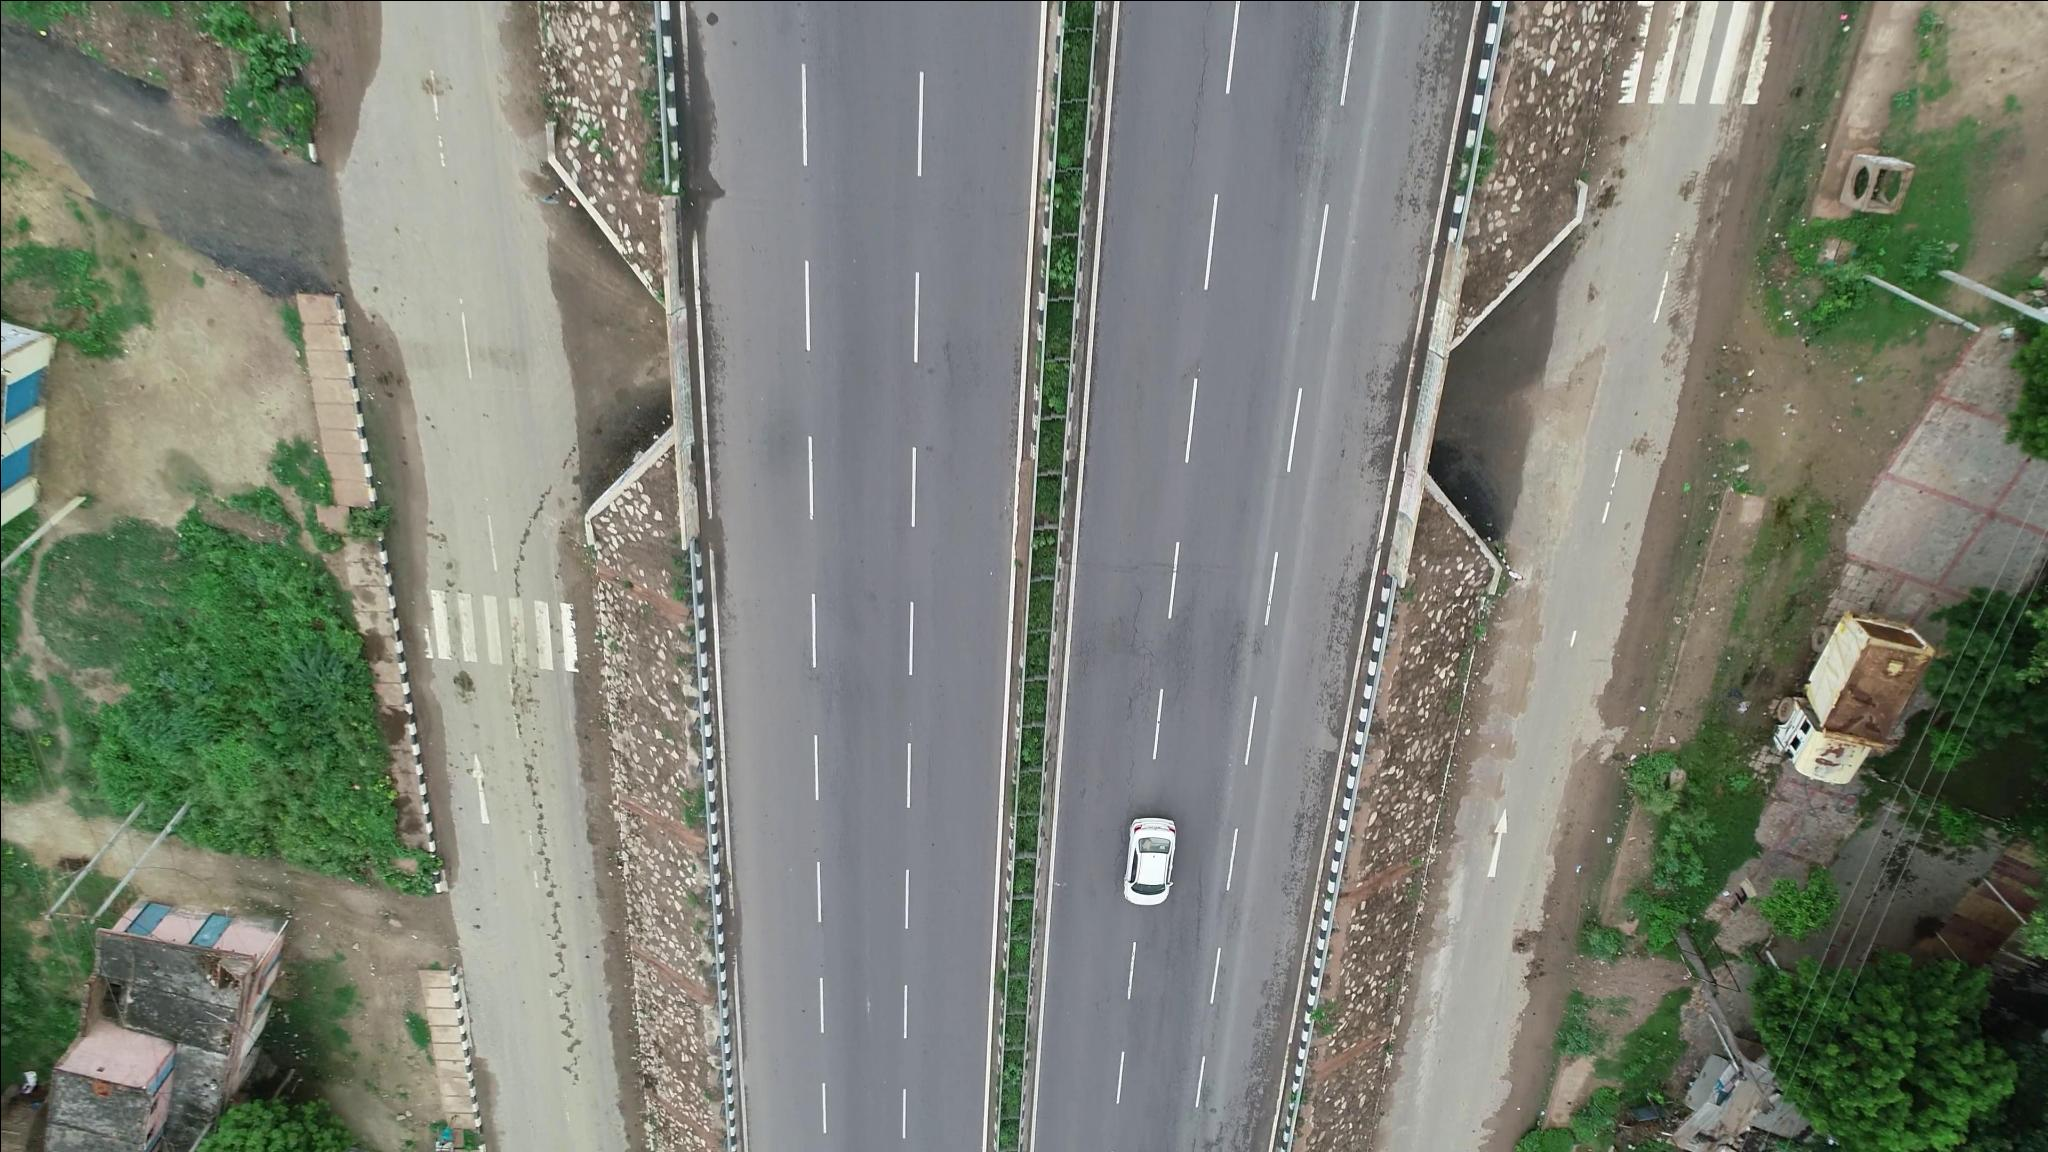Cracks: (1114, 615, 1162, 814), (1287, 21, 1345, 181)
